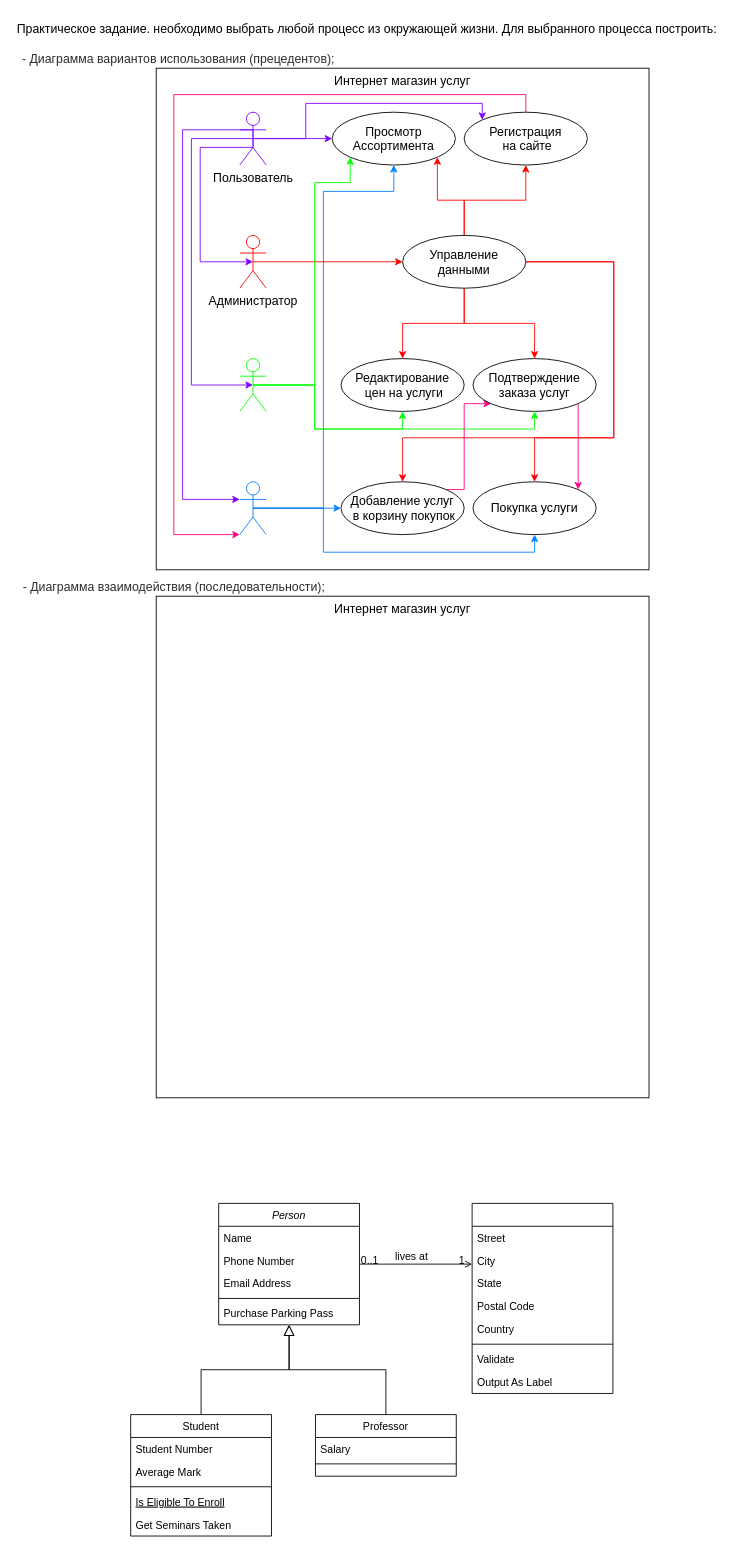
Some shapes in this 743 by 1553 pixel diagram are drawn without their labels. Here are the shapes that lost their labels. From the top down, the box of each, then its label:
(239, 358, 266, 411): Продавец
(239, 481, 266, 535): Регистрированный Покупатель
(471, 1203, 613, 1393): Address
